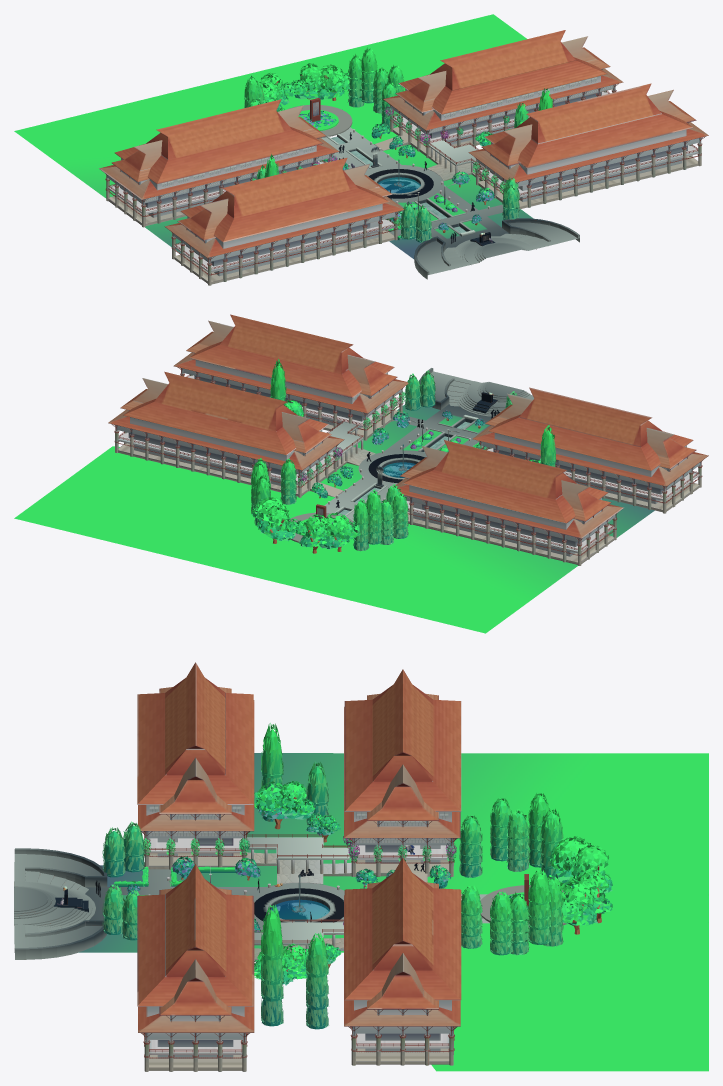
The model's file is Final Comp_Export4.glb.
3 views of the same model, one above another, from view 1: azimuth 30°, elevation 25°; view 2: azimuth 150°, elevation 25°; view 3: azimuth 270°, elevation 25° (orthographic). The views are drawn at different scales.
Parts seen in each view (by area): view 1: STILL_Gedung, STILL_Landscape_Floor, STILL_Pine Trees, ANIM_Bushes, STILL_Landscape_Stills, STILL_Bridge_Kiri, STILL_Window_Kanan, STILL_Window_Kiri, ANIM_Air; view 2: STILL_Gedung, STILL_Landscape_Floor, STILL_Pine Trees, ANIM_Bushes, STILL_Landscape_Stills, STILL_Bridge_Kiri; view 3: STILL_Gedung, STILL_Landscape_Floor, STILL_Pine Trees, ANIM_Bushes, STILL_Landscape_Stills, STILL_Bridge_Kiri, STILL_Window_Kiri, ANIM_Air, STILL_Bushes_Kotak.
Part boxes in pixels (x1=…): STILL_Gedung: x1=99, y1=30, x2=708, y2=285; STILL_Landscape_Floor: x1=14, y1=14, x2=533, y2=259; STILL_Pine Trees: x1=244, y1=47, x2=552, y2=242; ANIM_Bushes: x1=251, y1=63, x2=522, y2=230; STILL_Landscape_Stills: x1=262, y1=75, x2=579, y2=279; STILL_Bridge_Kiri: x1=427, y1=139, x2=484, y2=180; STILL_Window_Kanan: x1=392, y1=77, x2=613, y2=180; STILL_Window_Kiri: x1=145, y1=146, x2=328, y2=201; ANIM_Air: x1=378, y1=177, x2=420, y2=193; STILL_Gedung: x1=108, y1=314, x2=708, y2=565; STILL_Landscape_Floor: x1=14, y1=404, x2=654, y2=633; STILL_Pine Trees: x1=251, y1=359, x2=556, y2=551; ANIM_Bushes: x1=251, y1=391, x2=540, y2=549; STILL_Landscape_Stills: x1=262, y1=368, x2=533, y2=553; STILL_Bridge_Kiri: x1=327, y1=420, x2=375, y2=469; STILL_Gedung: x1=137, y1=662, x2=461, y2=1071; STILL_Landscape_Floor: x1=78, y1=753, x2=708, y2=1071; STILL_Pine Trees: x1=102, y1=723, x2=563, y2=1029; ANIM_Bushes: x1=127, y1=781, x2=612, y2=985; STILL_Landscape_Stills: x1=14, y1=797, x2=601, y2=971; STILL_Bridge_Kiri: x1=246, y1=834, x2=351, y2=960; STILL_Window_Kiri: x1=149, y1=805, x2=448, y2=842; ANIM_Air: x1=271, y1=899, x2=329, y2=921; STILL_Bushes_Kotak: x1=113, y1=866, x2=242, y2=886.
Bounding box in the file's own units: 62.34 × 11.91 × 55.04.
Materials: 12 (12 with a texture image).
